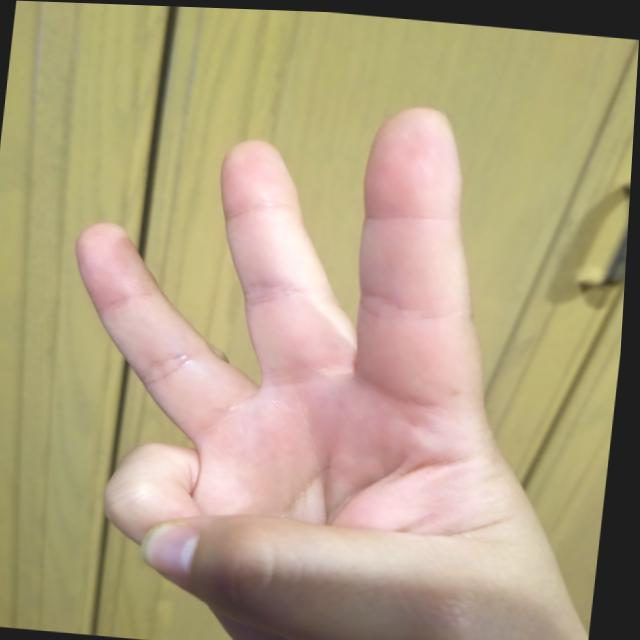W: (31, 68, 636, 639)
